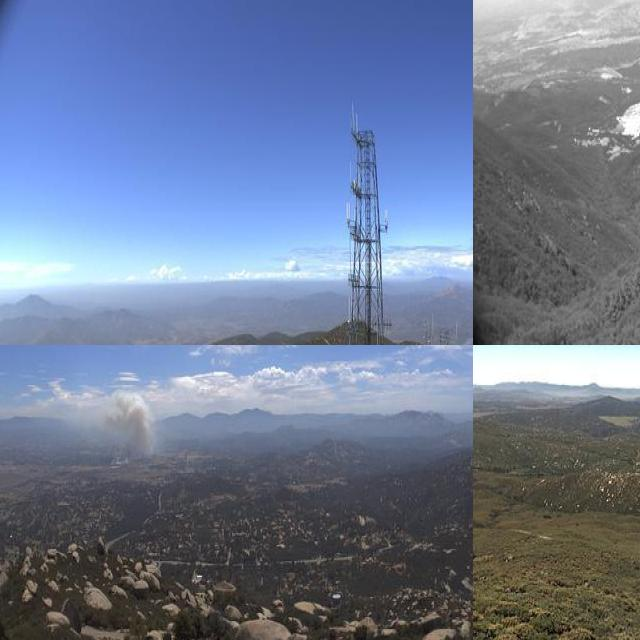smoke: (52, 385, 159, 464)
